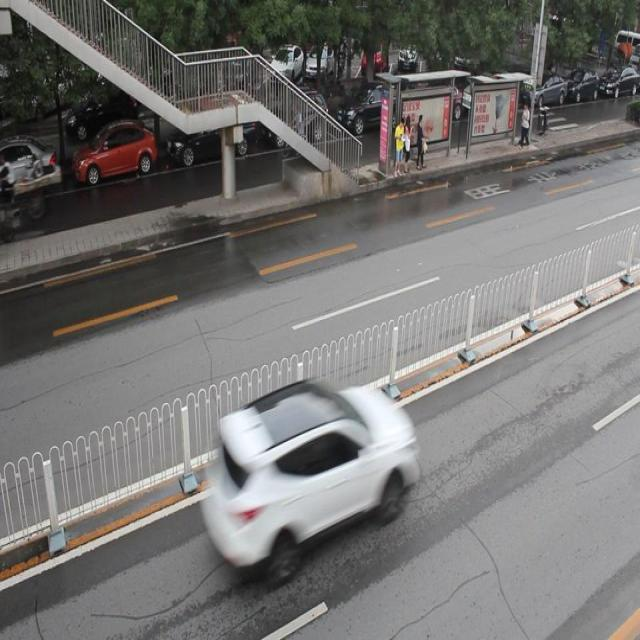car: (200, 381, 413, 577), (74, 120, 158, 184), (167, 103, 252, 165), (336, 79, 406, 137), (262, 90, 329, 148), (1, 135, 58, 199)
